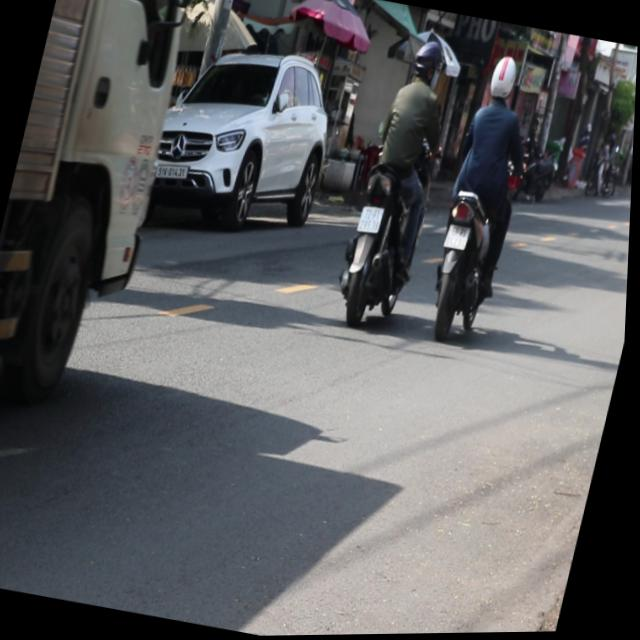helmet: (485, 54, 522, 106), (408, 38, 444, 88)
licenseplate: (330, 31, 469, 334), (418, 50, 553, 345)
nohelmet: (358, 205, 386, 236), (445, 225, 472, 252)
